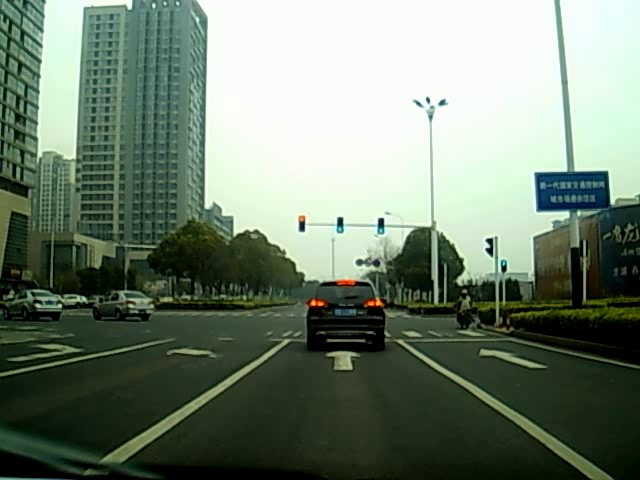Traffic_Light_go: (337, 217, 344, 235), (378, 218, 385, 235)
Traffic_Light_stop: (298, 215, 305, 233)
